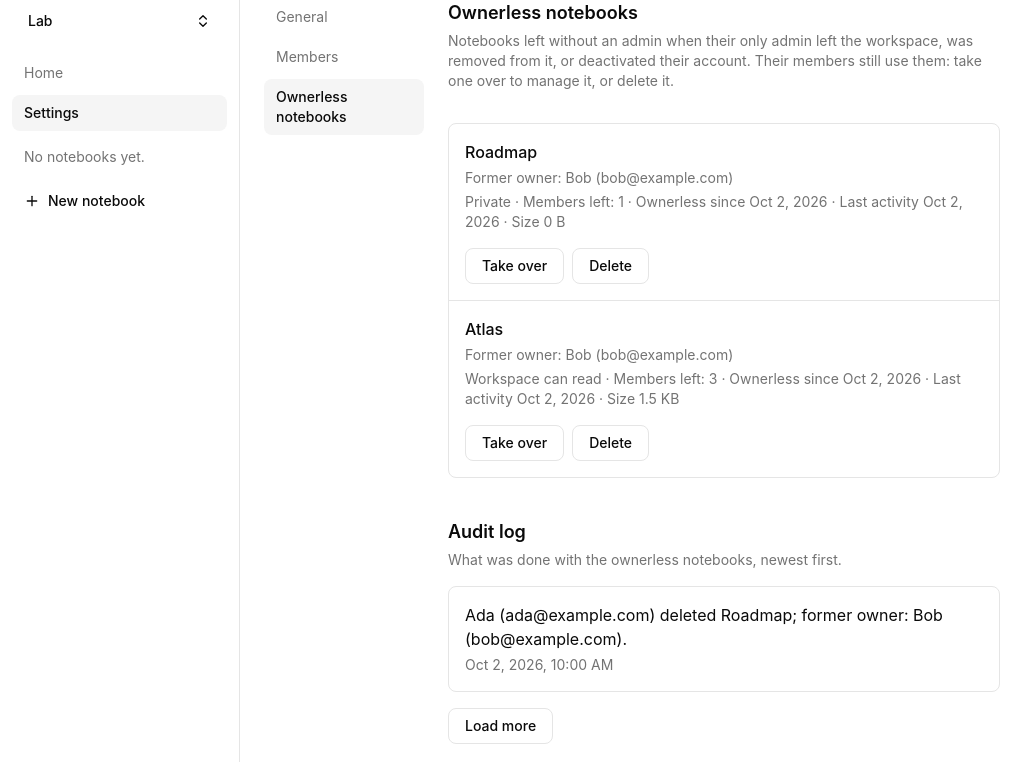
Test: a page that cannot be loaded says why beside Load more, which tries again
(page scrolled)
Click the button "Load more".
click(501, 726)  # box [448, 708, 553, 744]
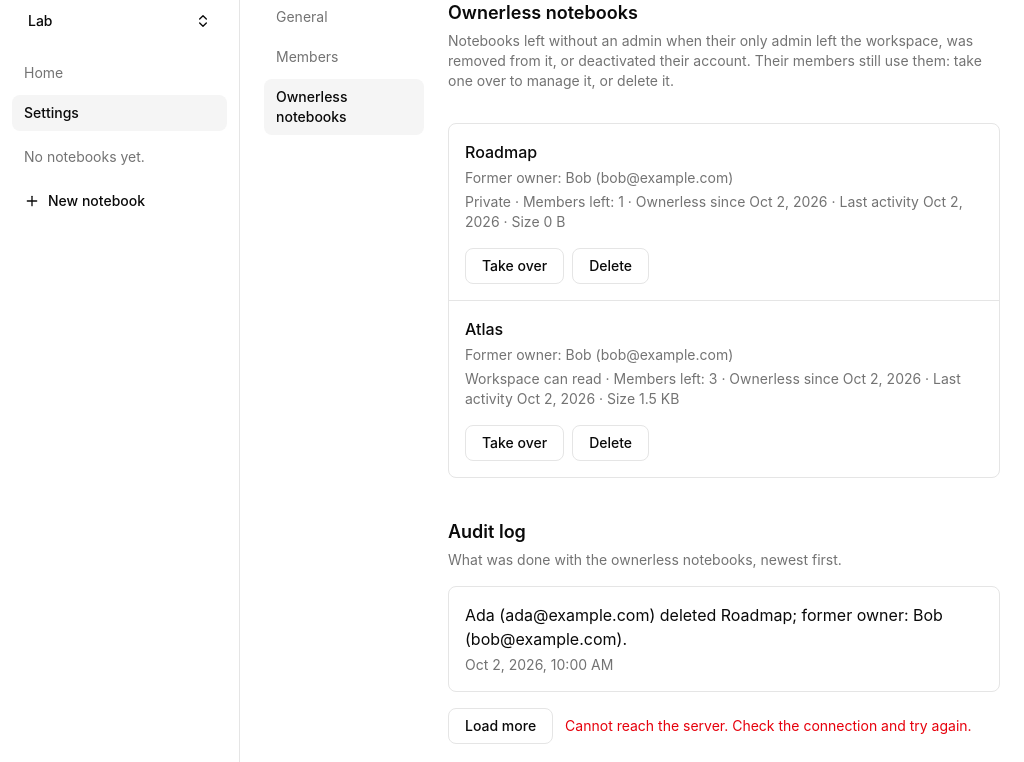
Expected: the message reads "Cannot reach the server. Check the connection and try again.", [565, 717, 972, 734]
Click the button "Load more".
click(501, 726)  # box [448, 708, 553, 744]
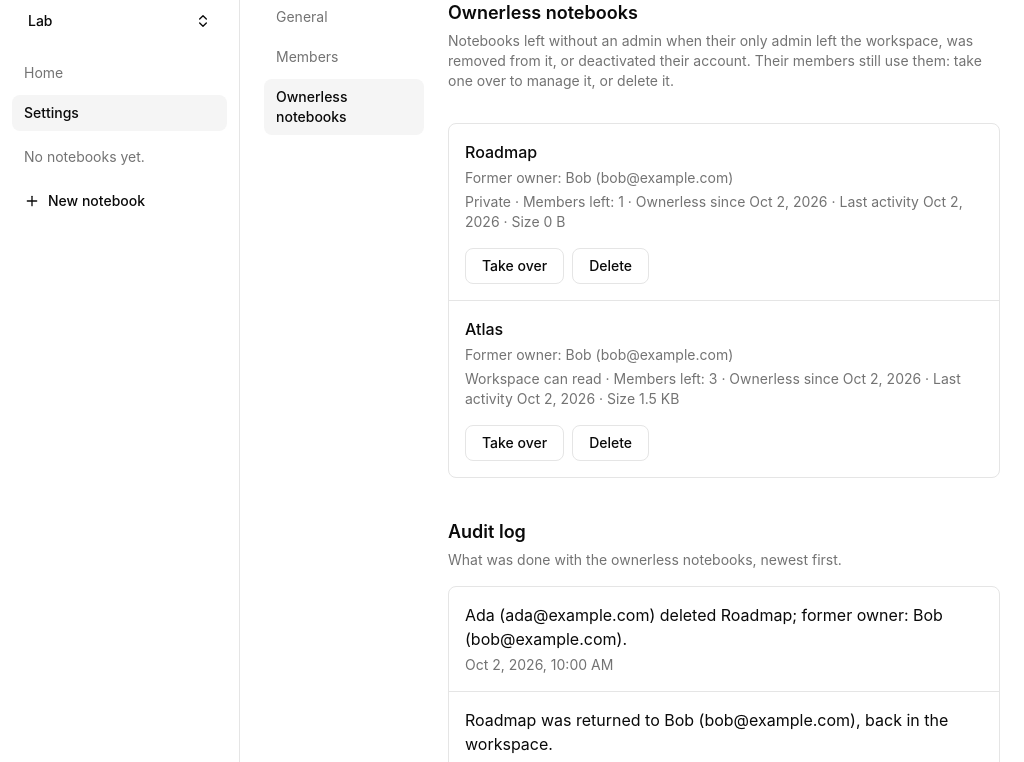
Expected: the message "Cannot reach the server. Check the connection and try again." is gone
